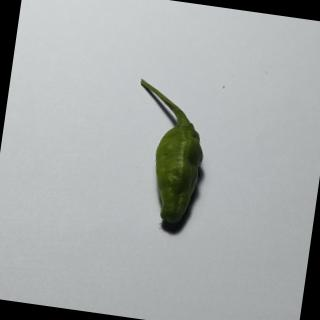Cabai Hijau: (111, 72, 220, 239)
